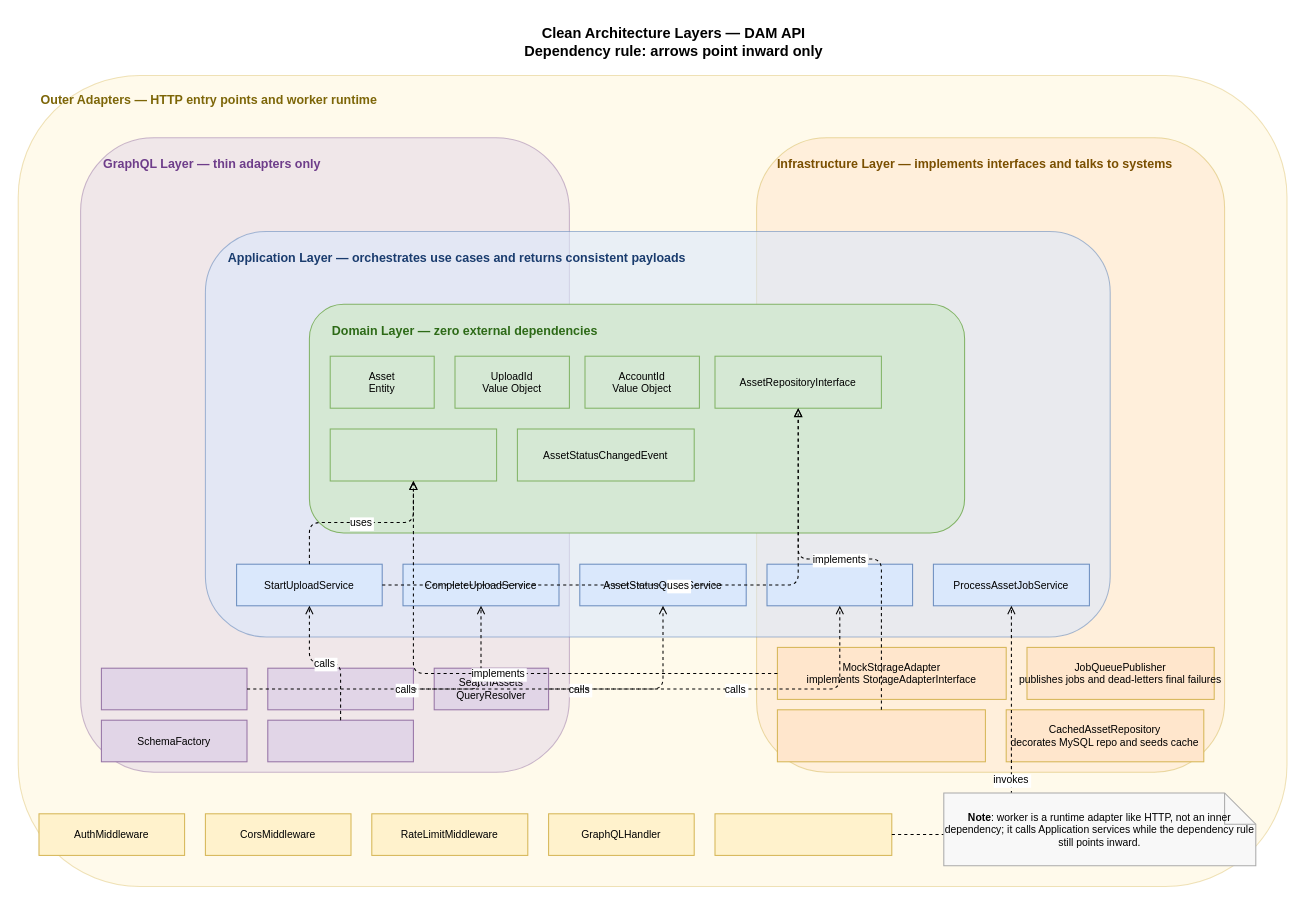
Image size: 1305x905. Some labels were removed from this diagram. Here are the shapes that lost their labels. From the top down, the centre of each, then its label:
the point at 413,454: StorageAdapterInterface
the point at 839,584: AssetSearchService
the point at 173,688: CompleteUpload MutationResolver
the point at 340,688: AssetStatus QueryResolver
the point at 340,740: StartUpload MutationResolver
the point at 880,735: MySQLAssetRepository implements AssetRepositoryInterface
the point at 803,834: AssetProcessingWorker
